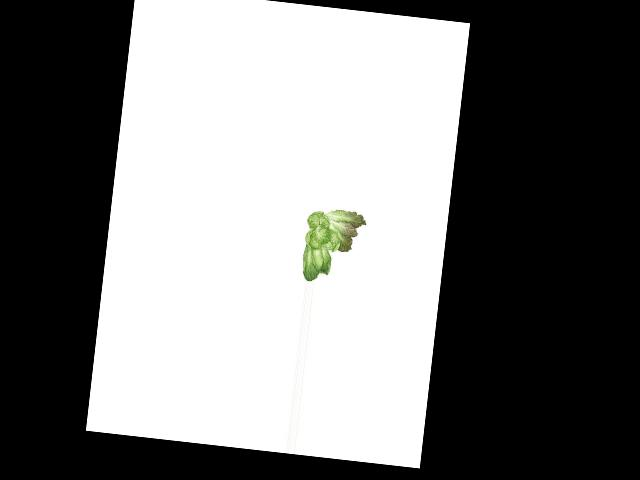lettuce: (296, 204, 371, 287)
